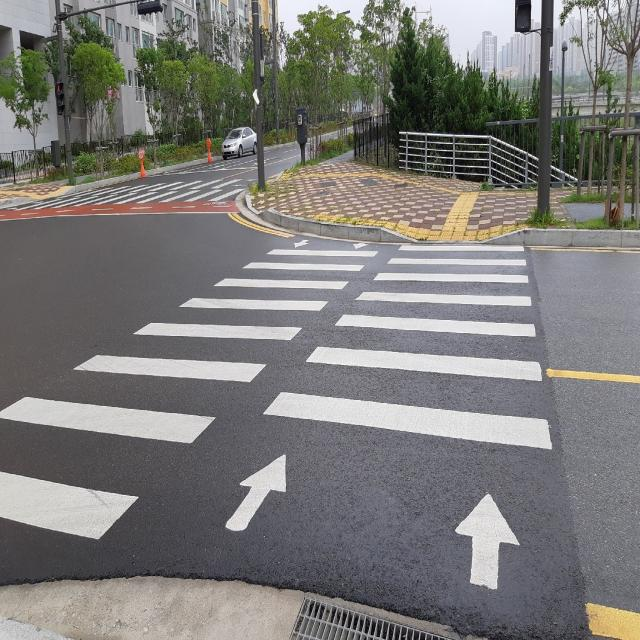횡단보도: (0, 234, 553, 594), (67, 186, 237, 209)
